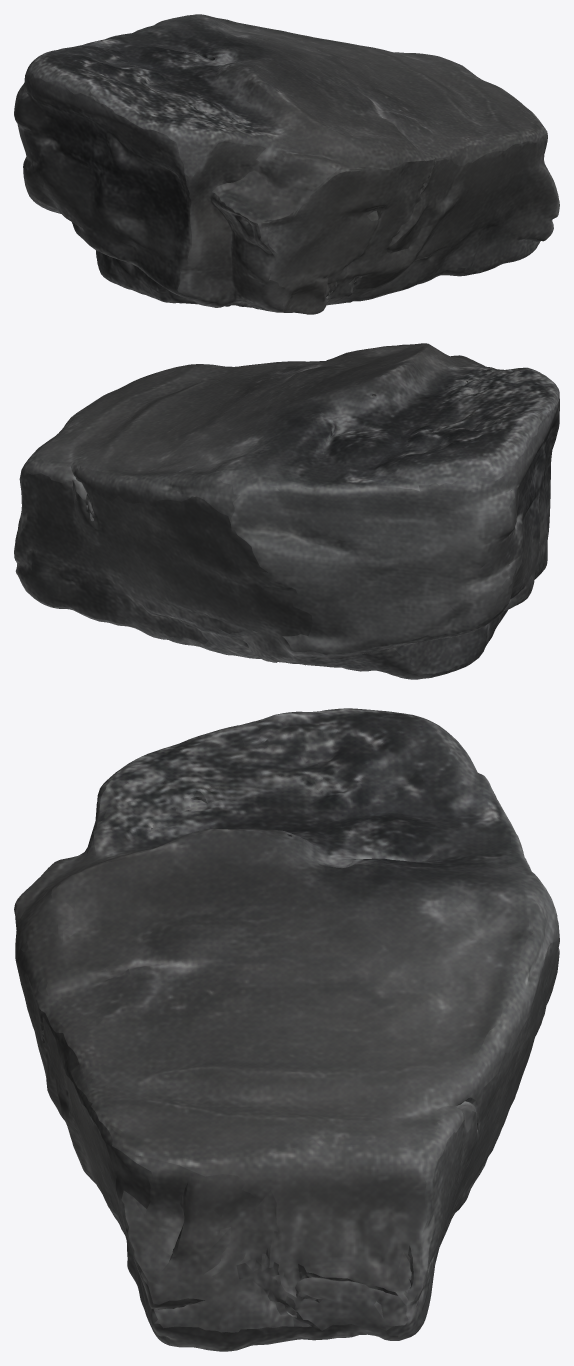
The picture shows the model from 3 angles, top to bottom: view 1: azimuth 30°, elevation 25°; view 2: azimuth 150°, elevation 25°; view 3: azimuth 270°, elevation 25°; orthographic projection. The views are drawn at different scales.
Parts seen in each view (by area): view 1: world; view 2: world; view 3: world.
Boxes of the visible parts, x1,y1,x2,y2 form: world: (14,14,559,314); world: (14,343,559,679); world: (14,708,559,1351).
Size of the model in its own units: 3.5 by 1.77 by 2.49.
1 material, 1 textured.
